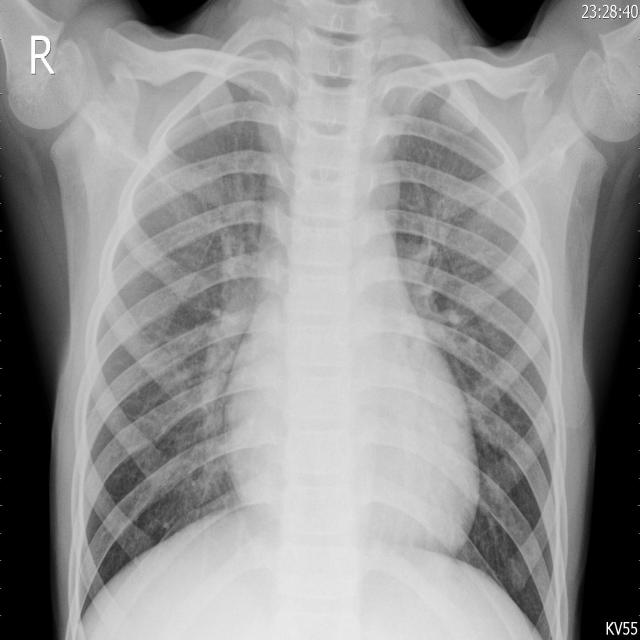no-pneumonia: (80, 65, 293, 614), (374, 73, 561, 639)
